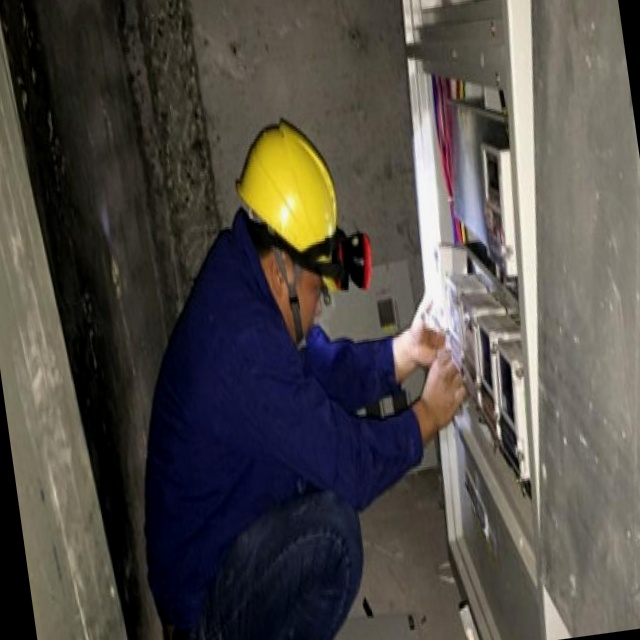Con_Casco: (228, 114, 352, 314)
